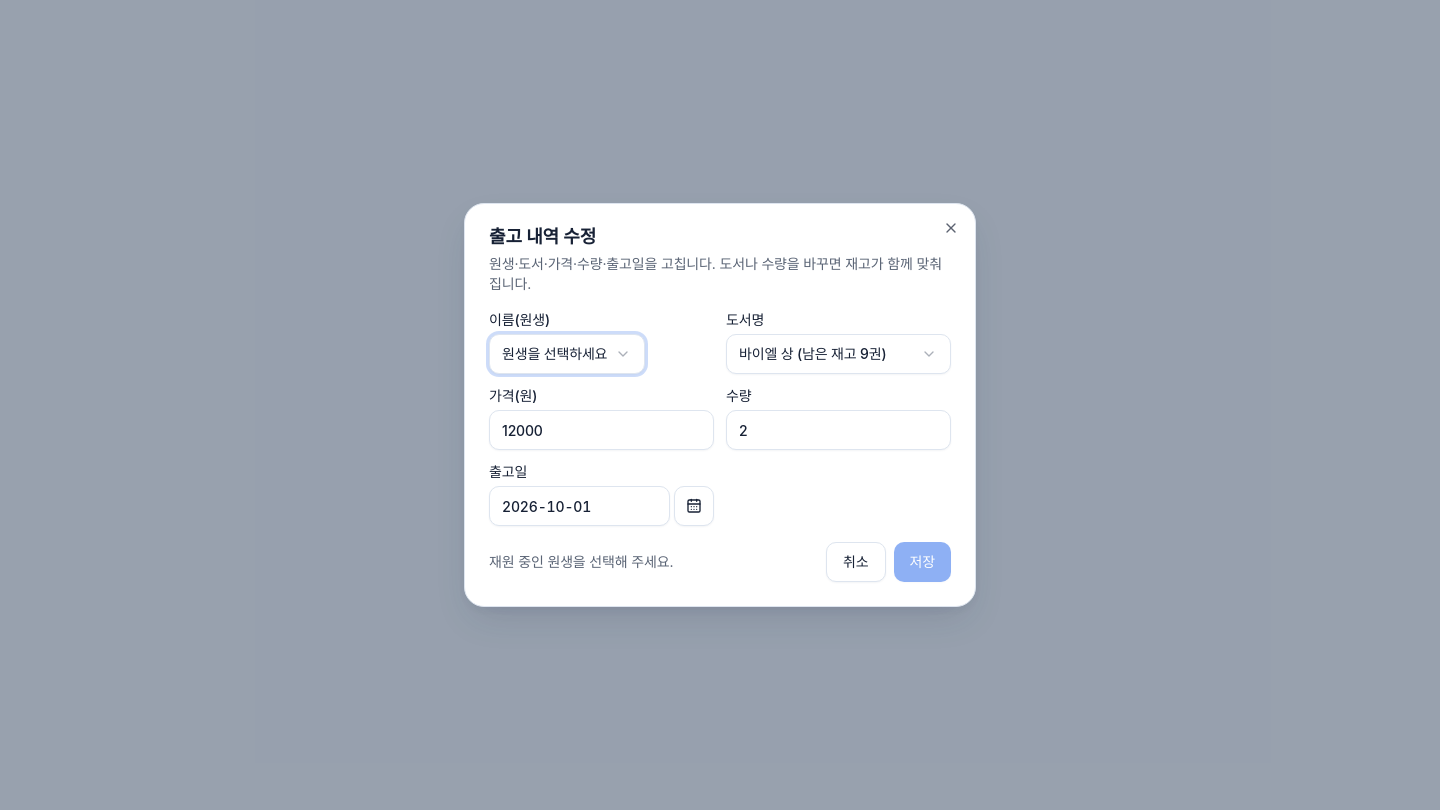
Test: BookShipmentEditDialog › 원생 삭제로 연결이 끊긴 출고는 재원 원생을 다시 골라야 저장할 수 있다
Check: the button "저장" is disabled, box [894,542,951,582]
Check: the text "재원 중인 원생을 선택해 주세요." is shown, box [489,552,673,572]
Select "이서윤" in the dropdown labelled "이름(원생)". click: [567, 354]
box: [489,334,645,374]
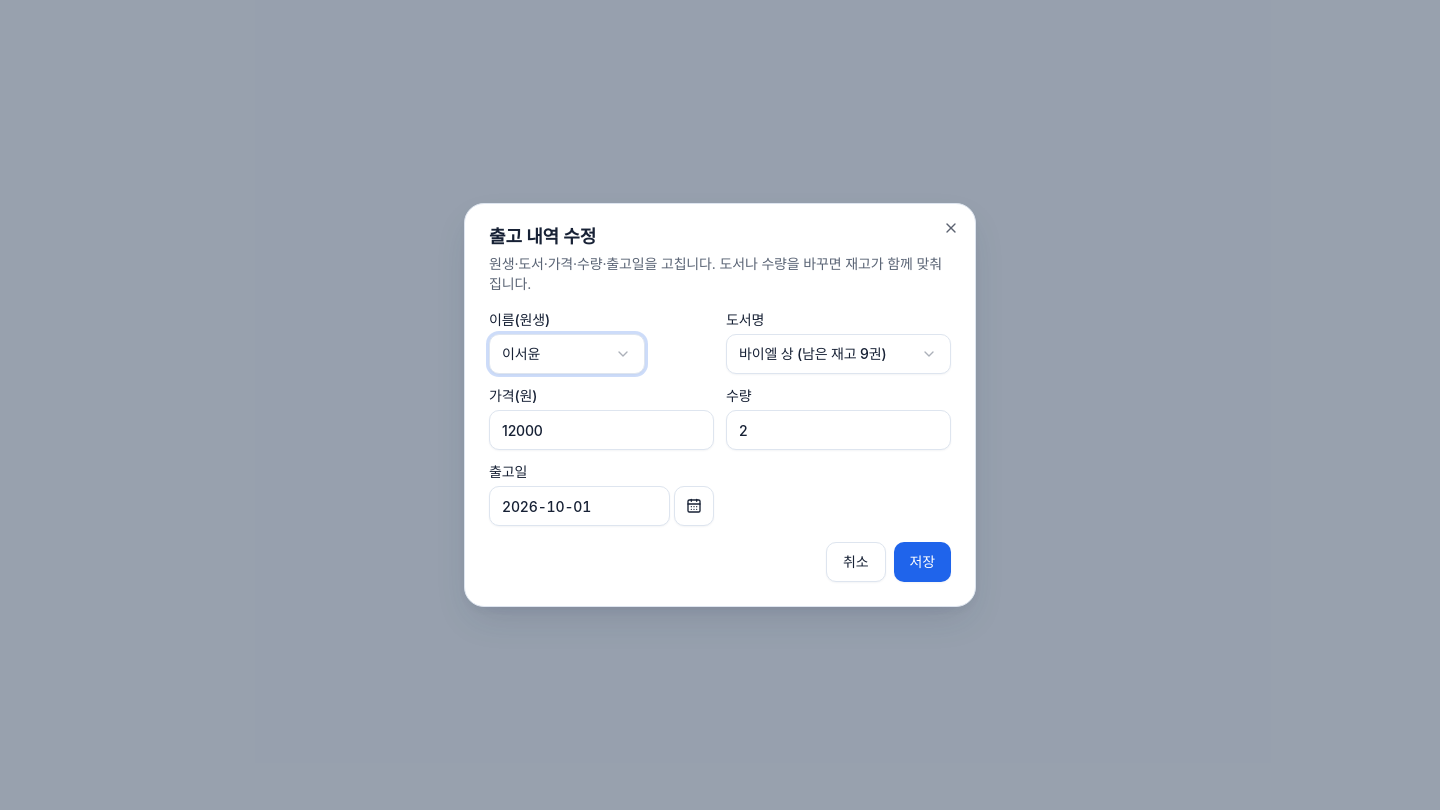
Check: the button "저장" is enabled, box [894,542,951,582]
